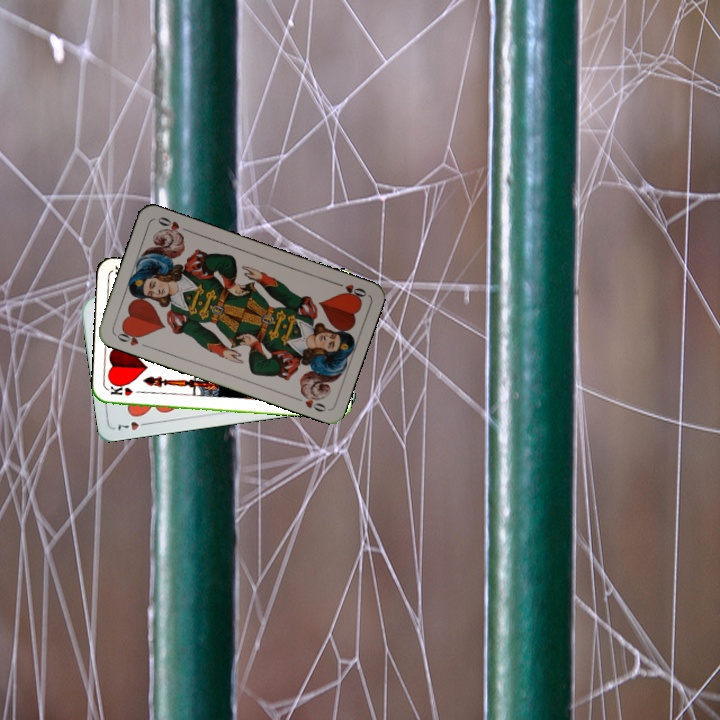H7: (113, 417, 152, 433)
HK: (106, 382, 147, 398)
HO: (112, 325, 151, 350), (330, 278, 369, 302)
